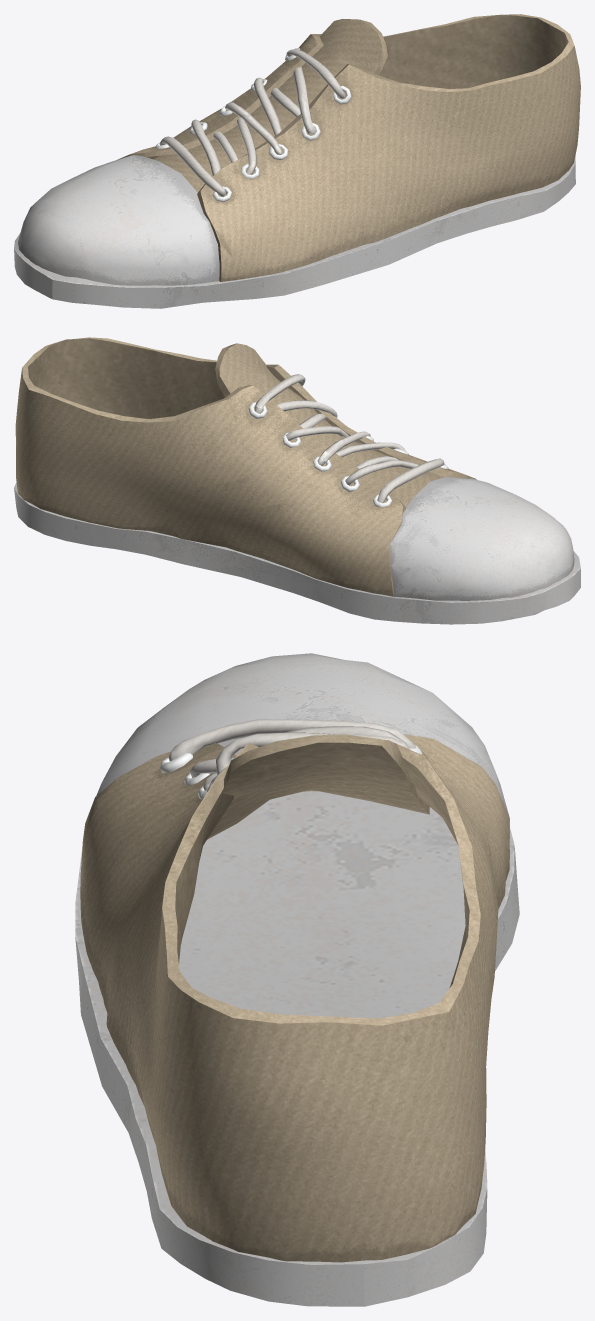
The model's file is SM_Shoes_C1.fbx.
3 views of the same model, one above another, from view 1: azimuth 30°, elevation 25°; view 2: azimuth 150°, elevation 25°; view 3: azimuth 270°, elevation 25° (orthographic). The views are drawn at different scales.
Visible parts, largest first — view 1: SM_Shoes_C1; view 2: SM_Shoes_C1; view 3: SM_Shoes_C1.
Boxes of the visible parts, x1,y1,x2,y2 form: SM_Shoes_C1: (14,14,580,308); SM_Shoes_C1: (14,337,580,624); SM_Shoes_C1: (75,653,519,1306).
Bounding box in the file's own units: 30.02 × 10.7 × 10.22.
Materials: 1 (1 with a texture image).
